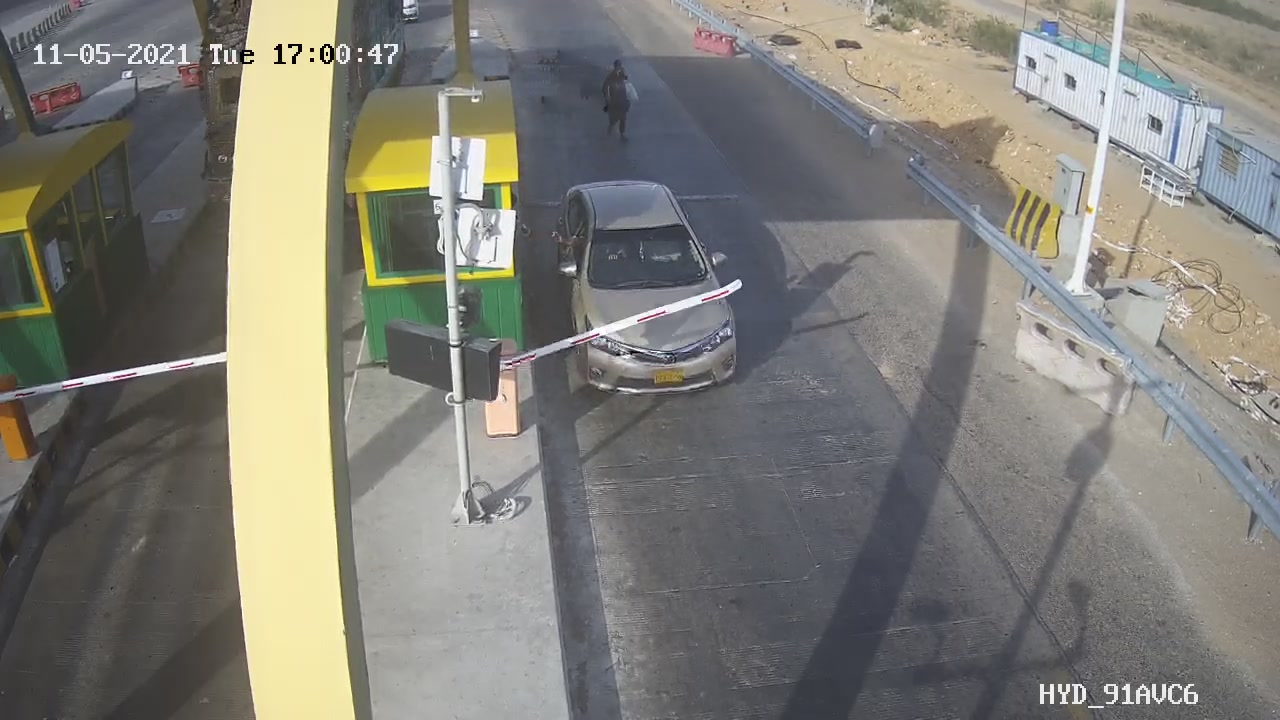F1: (535, 165, 763, 421)
